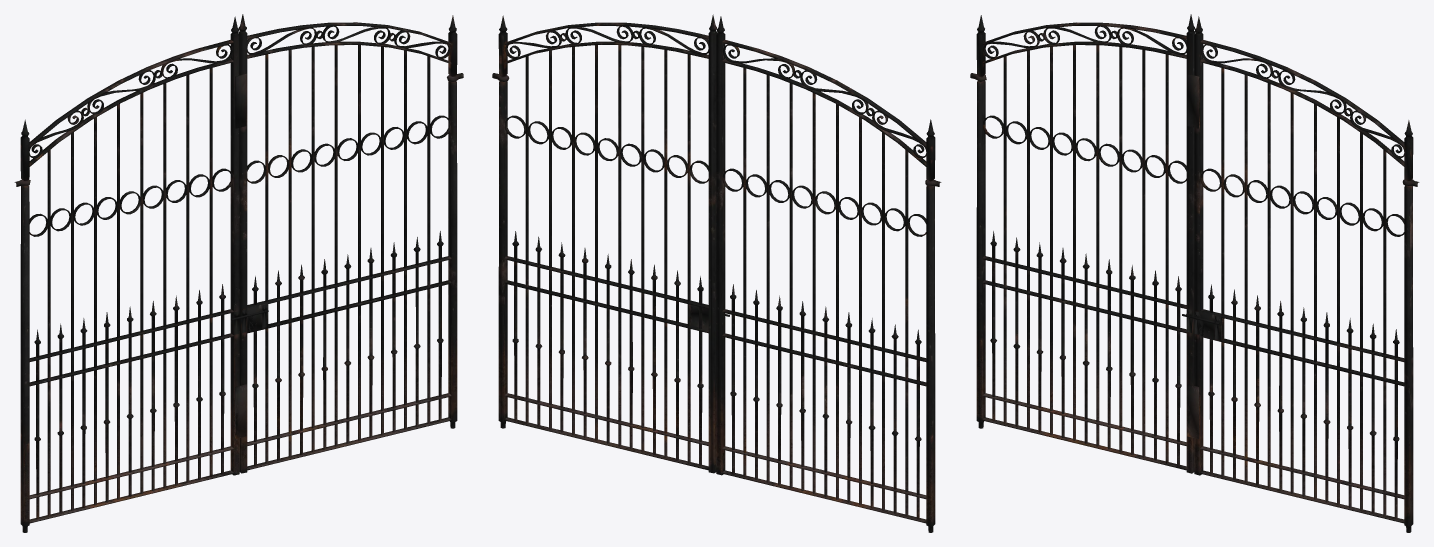
The model's file is large_iron_gate.glb.
3 renders of one model, left to right at view 1: azimuth 30°, elevation 25°; view 2: azimuth 150°, elevation 25°; view 3: azimuth 330°, elevation 25°, orthographic.
Visible parts, largest first — view 1: large_iron_gate_right_door, large_iron_gate_left_door; view 2: large_iron_gate_left_door, large_iron_gate_right_door; view 3: large_iron_gate_right_door, large_iron_gate_left_door.
Part boxes in pixels (left/top/right/bottom): large_iron_gate_right_door: left=235, top=14, right=457, bottom=473; large_iron_gate_left_door: left=20, top=16, right=239, bottom=532; large_iron_gate_left_door: left=716, top=16, right=935, bottom=532; large_iron_gate_right_door: left=498, top=14, right=717, bottom=473; large_iron_gate_right_door: left=1187, top=16, right=1413, bottom=532; large_iron_gate_left_door: left=976, top=14, right=1195, bottom=473.
Bounding box in the file's own units: 2.95 × 2.93 × 0.0973.
Materials: 1 (1 with a texture image).
